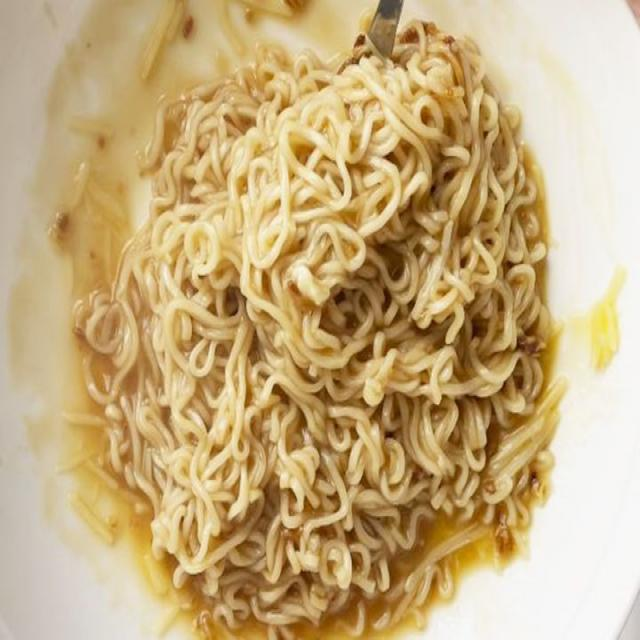noodle: (78, 32, 549, 628)
